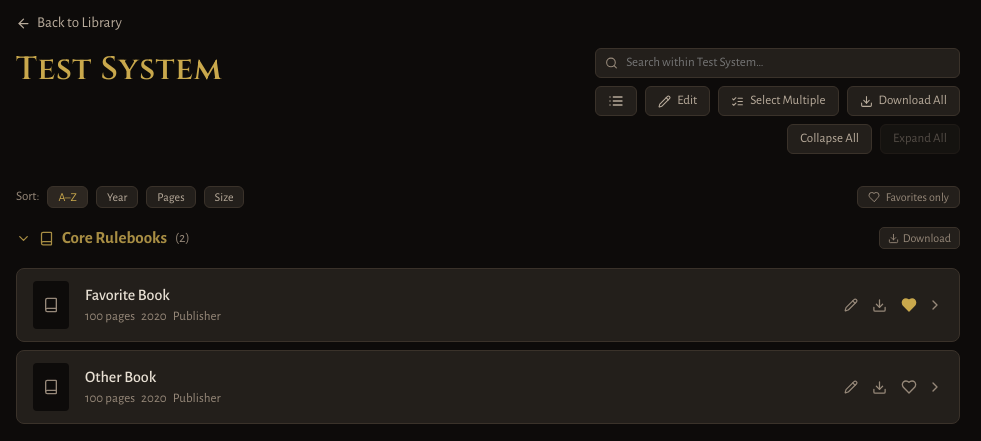
Test: SystemDetailView — subfolder grouping › favorites filter › favorites filter hides non-favorite books
expect the text "Favorite Book" is shown: met, box [85, 286, 170, 302]
Click the button "Favorites only": [908, 197] box [857, 186, 960, 208]
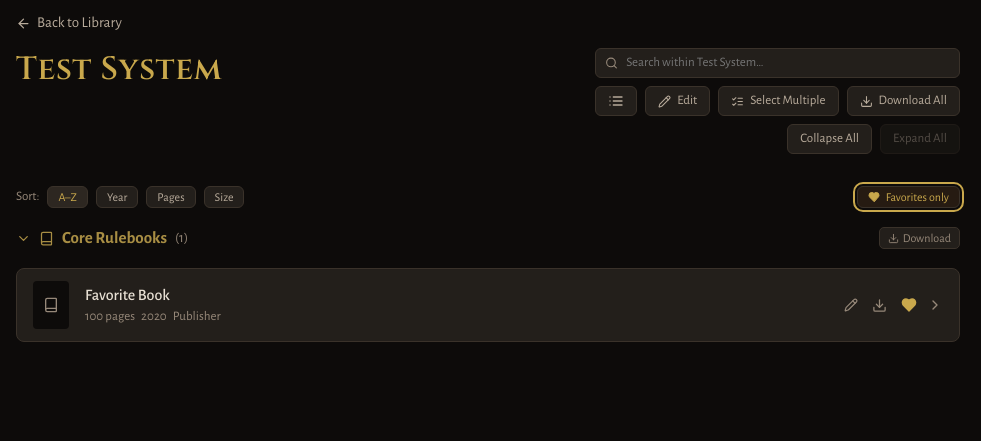
expect the text "Favorite Book" is shown: met, box [85, 286, 170, 302]
expect the button "Other Book" is gone: met
